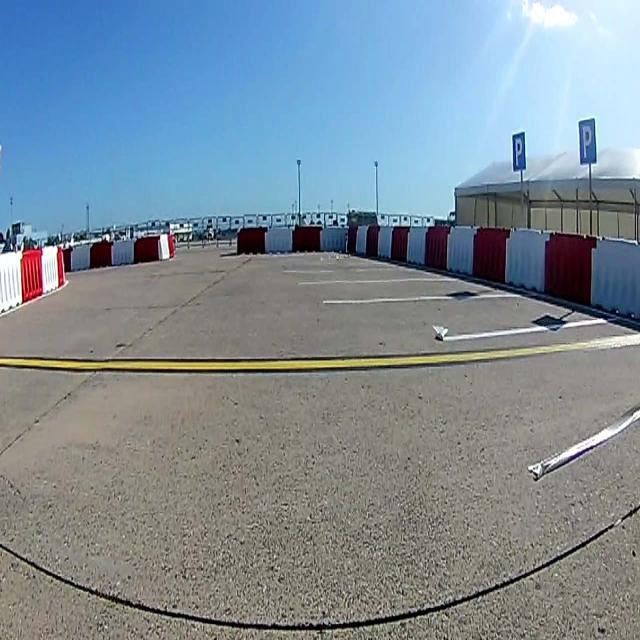park: (578, 118, 597, 166), (512, 132, 526, 172)
